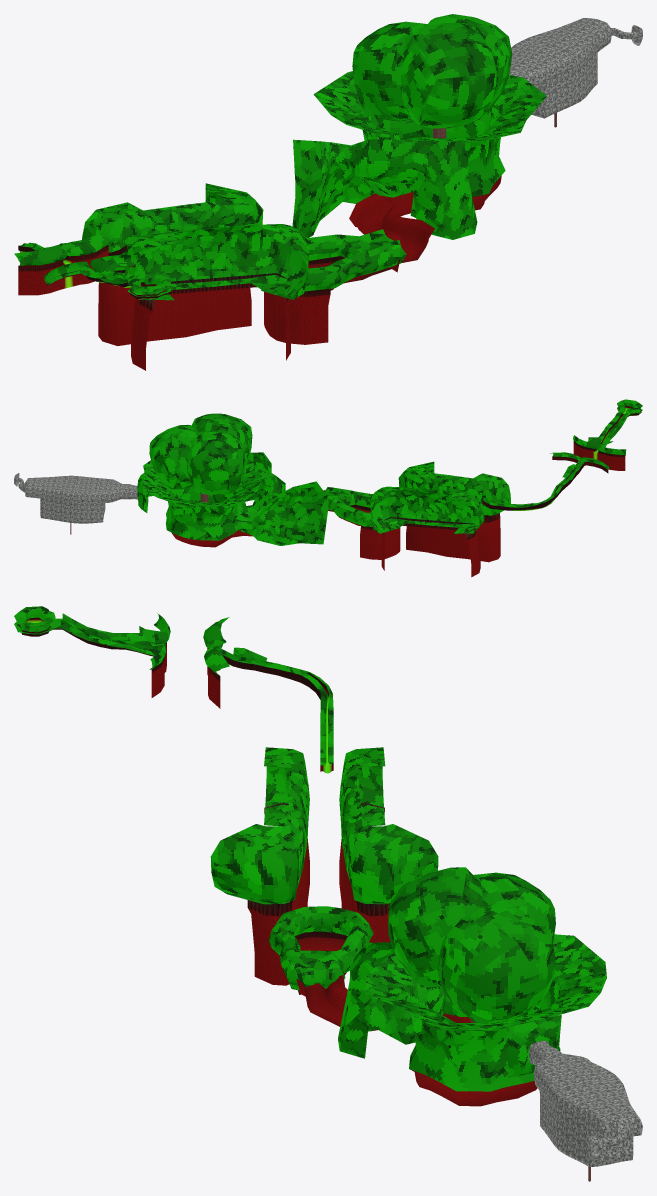
File: CrocLevel2.glb
3 views of the same model, one above another, from view 1: azimuth 30°, elevation 25°; view 2: azimuth 150°, elevation 25°; view 3: azimuth 270°, elevation 25° (orthographic). The views are drawn at different scales.
Visible parts, largest first — view 1: Plane.002, Cube, BigTree, Plane.001, CavePart2, Cave, Plane; view 2: Plane.002, Cube, BigTree, CavePart2, Cave, Plane, Plane.001; view 3: Plane.002, Cube, BigTree, CavePart2, Plane.001, Plane, Cave.
Part boxes in pixels (left/top/right/bottom): Plane.002: left=264, top=71, right=546, bottom=344; Cube: left=82, top=183, right=309, bottom=370; BigTree: left=352, top=14, right=512, bottom=138; Plane.001: left=14, top=232, right=126, bottom=295; CavePart2: left=522, top=18, right=642, bottom=104; Cave: left=509, top=41, right=575, bottom=118; Plane: left=44, top=255, right=171, bottom=299; Plane.002: left=137, top=452, right=400, bottom=559; Cube: left=370, top=461, right=510, bottom=577; BigTree: left=149, top=413, right=252, bottom=502; CavePart2: left=14, top=473, right=78, bottom=523; Cave: left=75, top=476, right=137, bottom=523; Plane: left=573, top=399, right=642, bottom=470; Plane.001: left=482, top=452, right=609, bottom=510; Plane.002: left=268, top=906, right=606, bottom=1106; Cube: left=210, top=747, right=438, bottom=985; BigTree: left=388, top=867, right=555, bottom=1024; CavePart2: left=553, top=1079, right=642, bottom=1166; Plane.001: left=203, top=617, right=333, bottom=773; Plane: left=14, top=606, right=170, bottom=697; Cave: left=529, top=1041, right=619, bottom=1145.
Bounding box in the file's own units: 819 × 208 × 505.
Materials: 6 (5 with a texture image).
